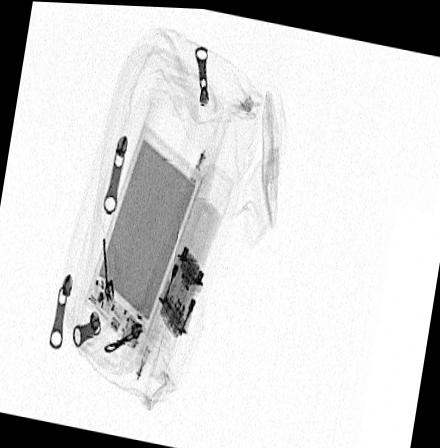Powerbank: (83, 121, 203, 348)
